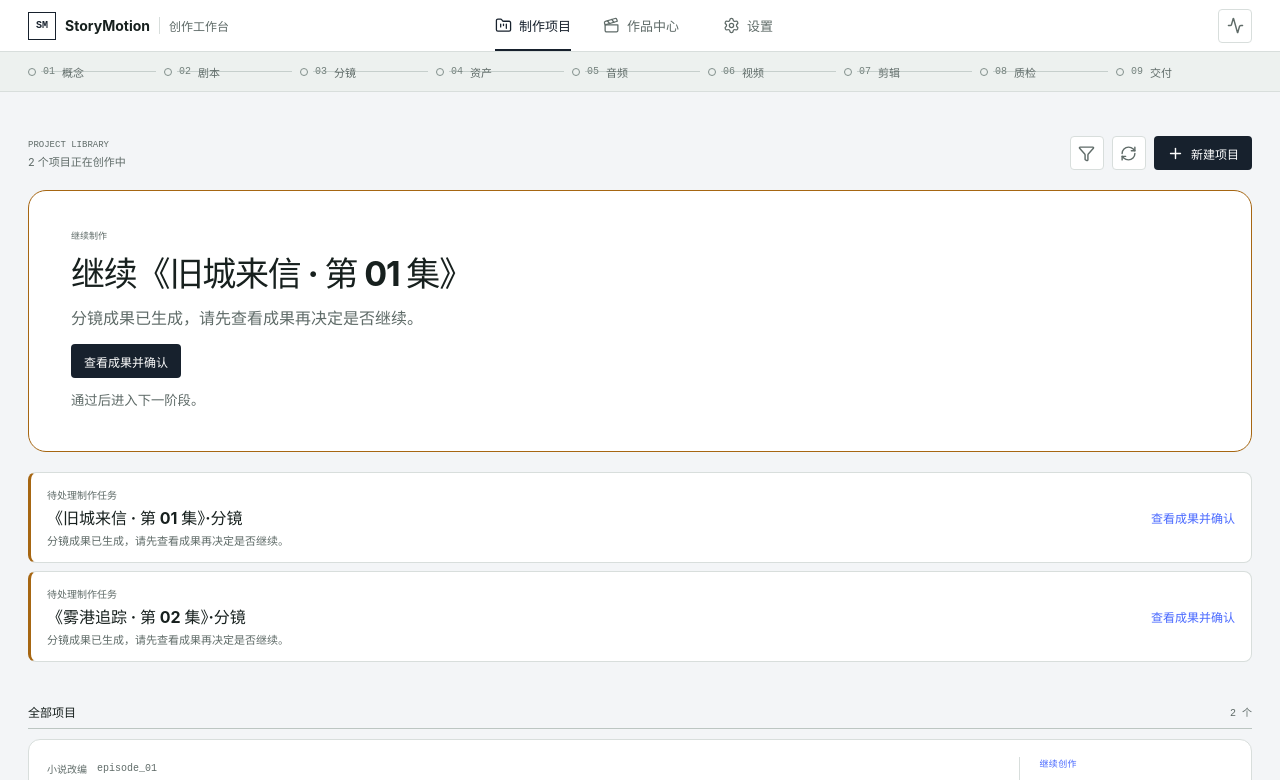
Scenario: production workbench shell › filters projects by project ID
The image size is (1280, 780).
Step 1. Click the button named "筛选项目" → (1087, 153), box [1070,136,1104,170]
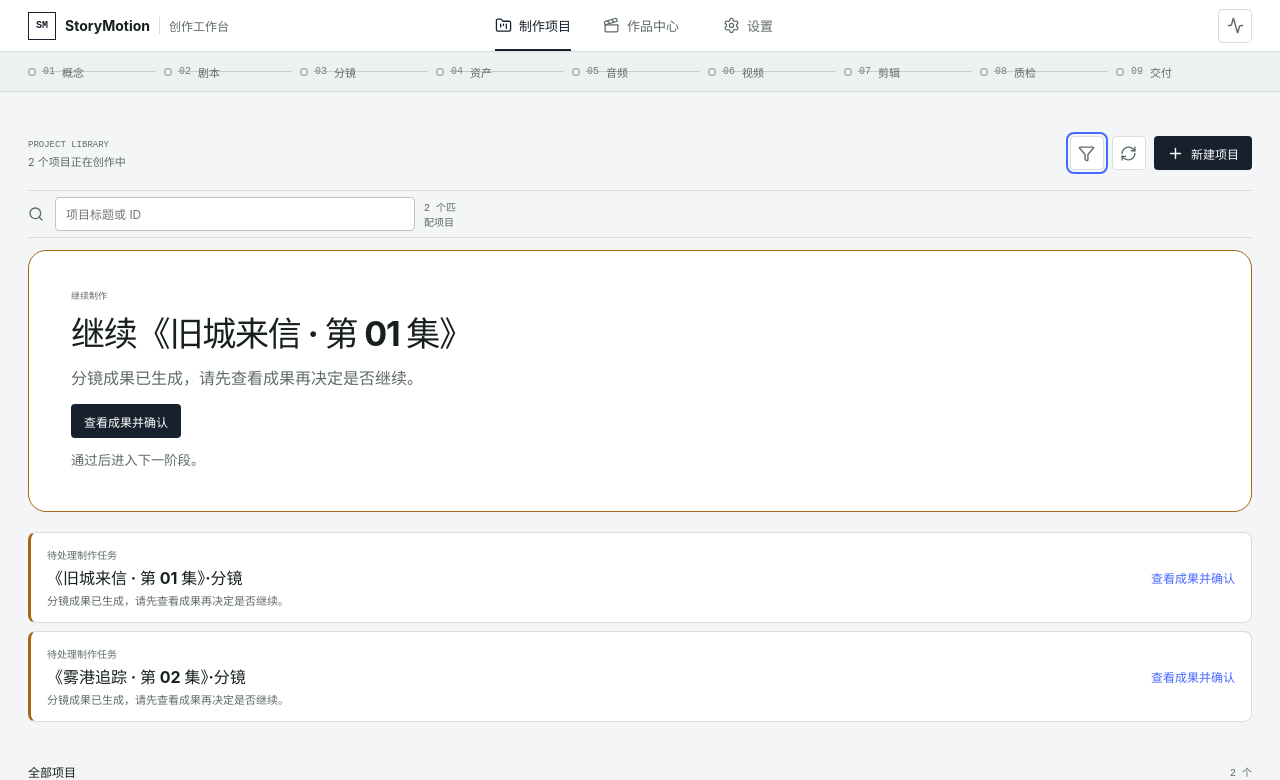
Step 2. Type "episode_02" into the search field named "筛选制作项目" → (235, 214), box [55,197,415,231]
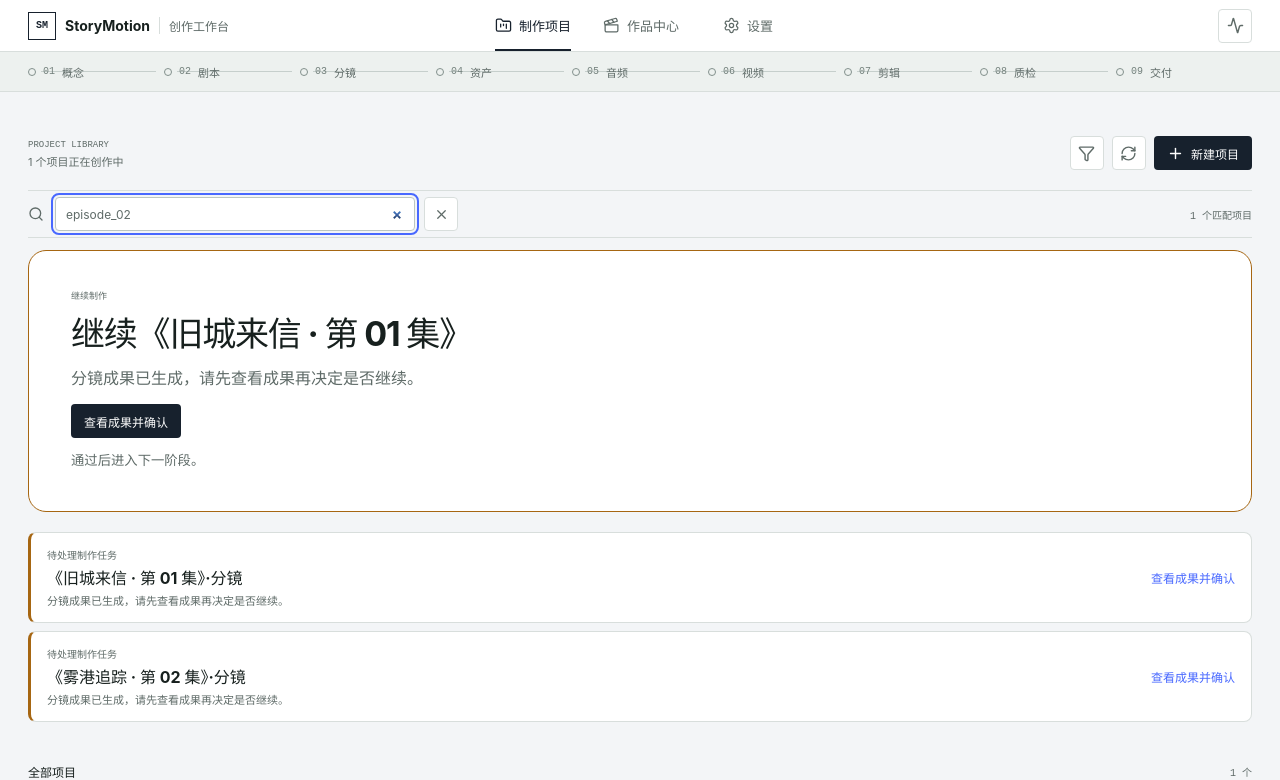
Expected: the text "1 个匹配项目" is shown, [1190,206,1252,222]
